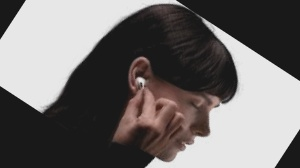earphone: (119, 53, 159, 96)
